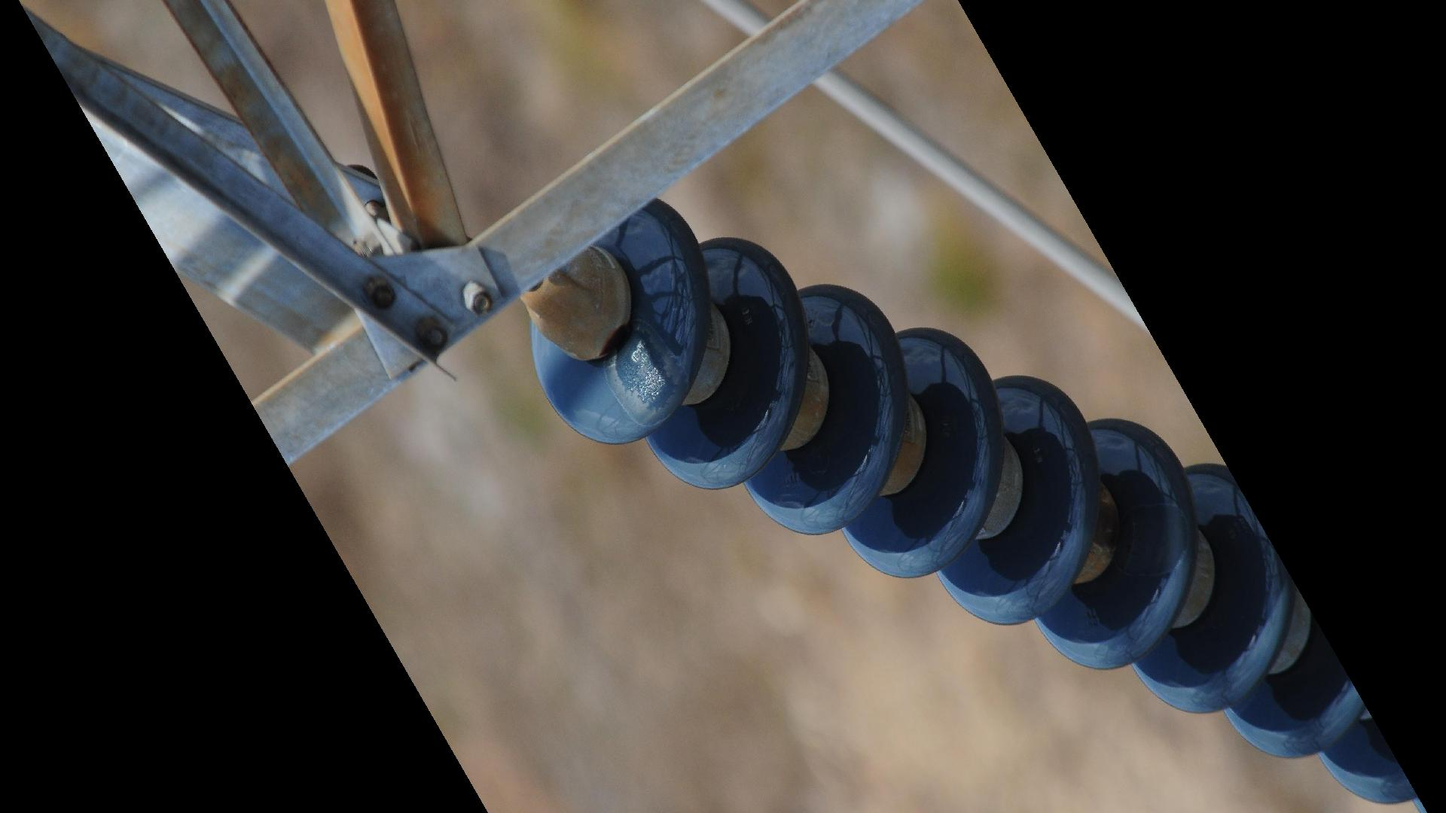insulator: (521, 196, 1422, 813)
insulator_flashover: (608, 321, 682, 419)
